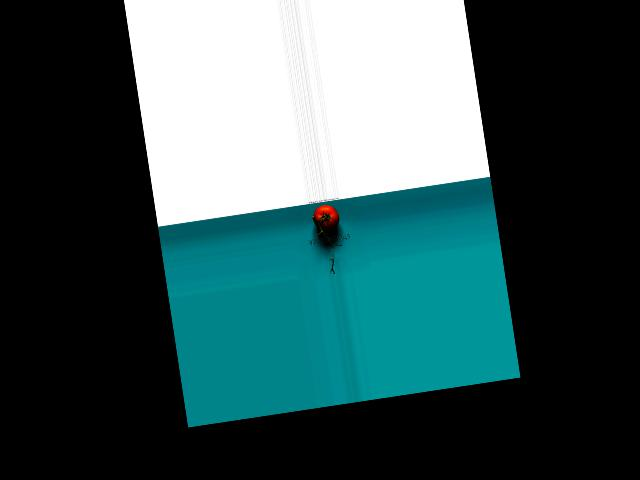tomato: (310, 203, 340, 232)
